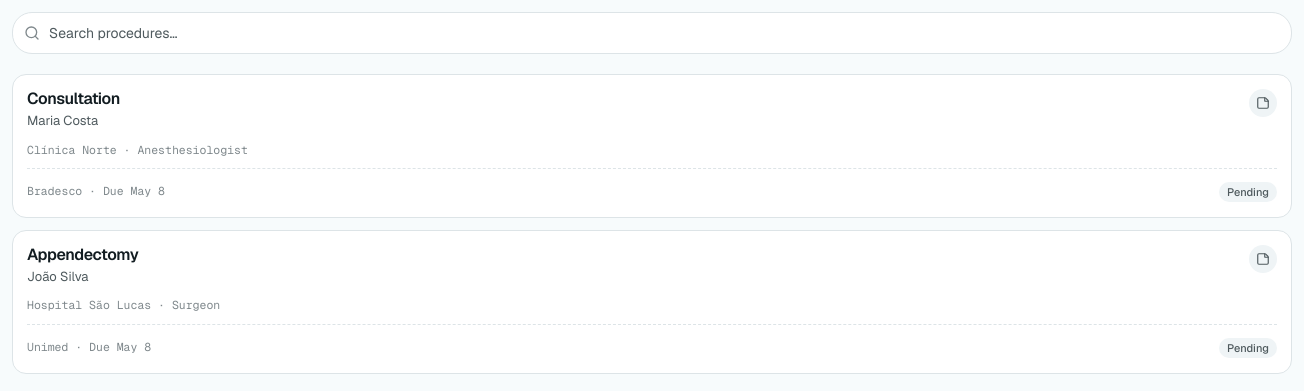
Test: ProcedureList search › filters by payer
The image size is (1304, 391).
Step 1. Type "bradesco" into the search field with placeholder "Search procedures…" → (652, 33), box [12,12,1292,54]
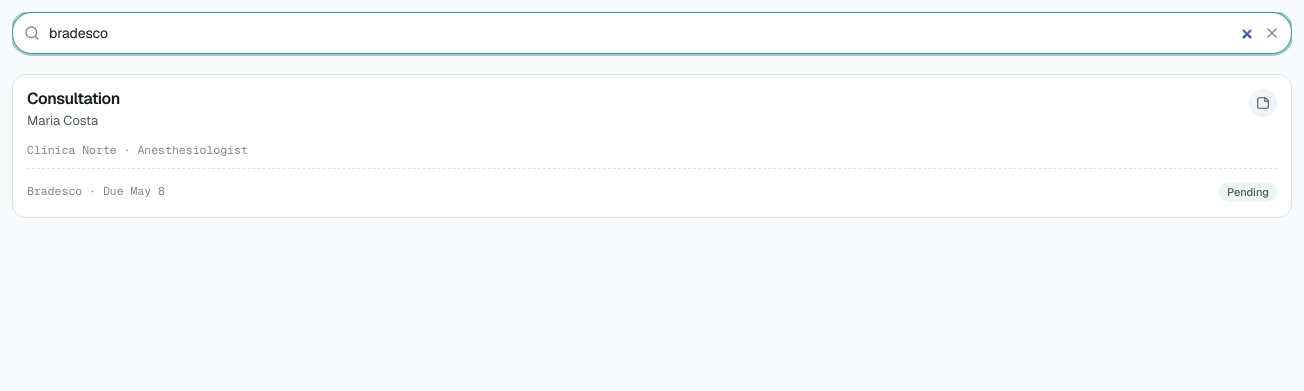
Expected: the text "Consultation" is shown, [27,88,120,109]
Now the text "Appendectomy" is gone
